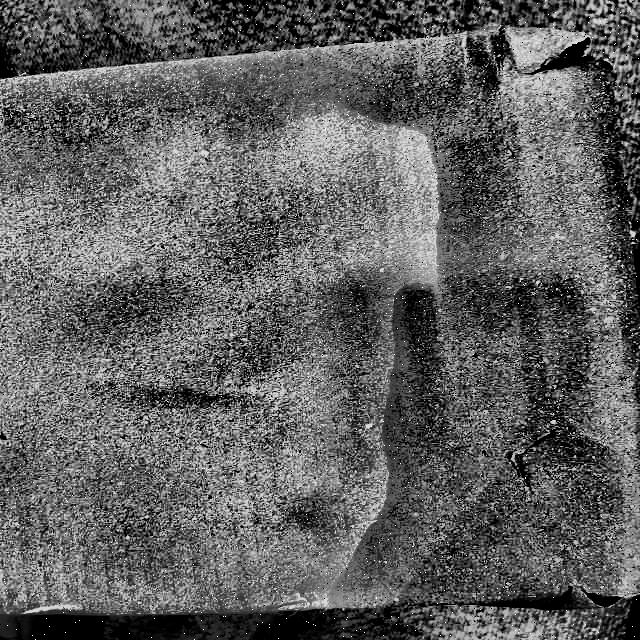box: (0, 14, 639, 619)
wet: (332, 46, 639, 607)
